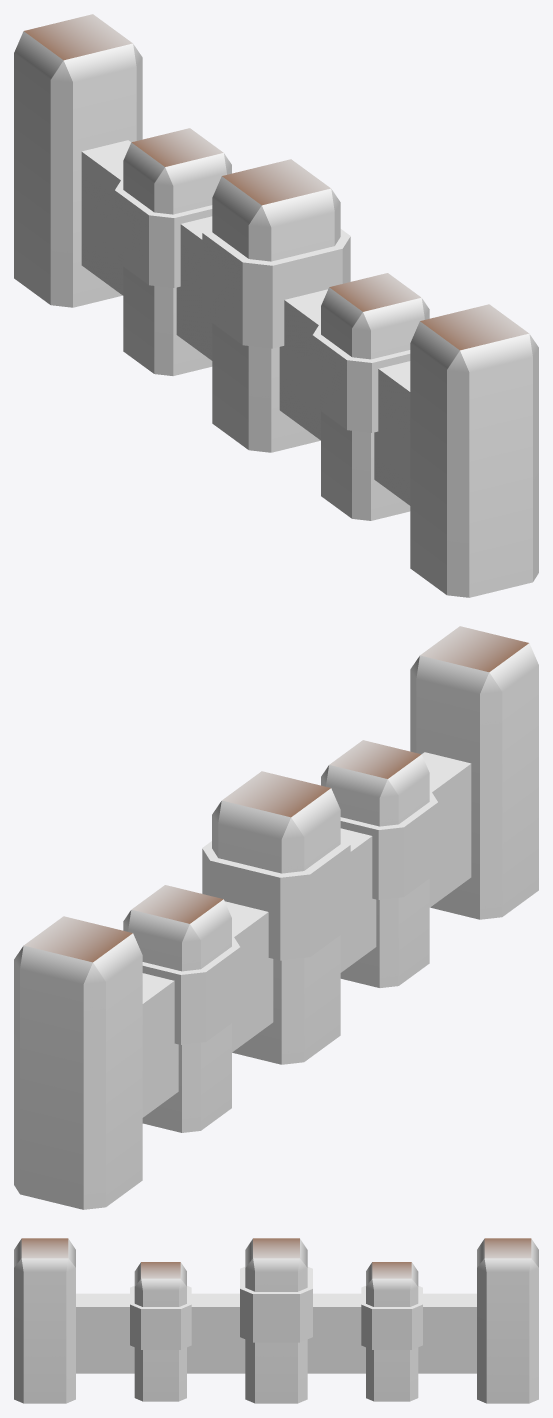
Rendered from Wall_Lv2_2.fbx.
3 renders of one model, top to bottom at view 1: azimuth 30°, elevation 25°; view 2: azimuth 150°, elevation 25°; view 3: azimuth 270°, elevation 25°, orthographic. The views are drawn at different scales.
Parts seen in each view (by area): view 1: Wall; view 2: Wall; view 3: Wall.
Part boxes in pixels (x1=…): Wall: x1=14, y1=14, x2=538, y2=597; Wall: x1=14, y1=626, x2=538, y2=1209; Wall: x1=14, y1=1238, x2=538, y2=1403.
Bounding box in the file's own units: 0.2098 × 0.4514 × 1.51.
